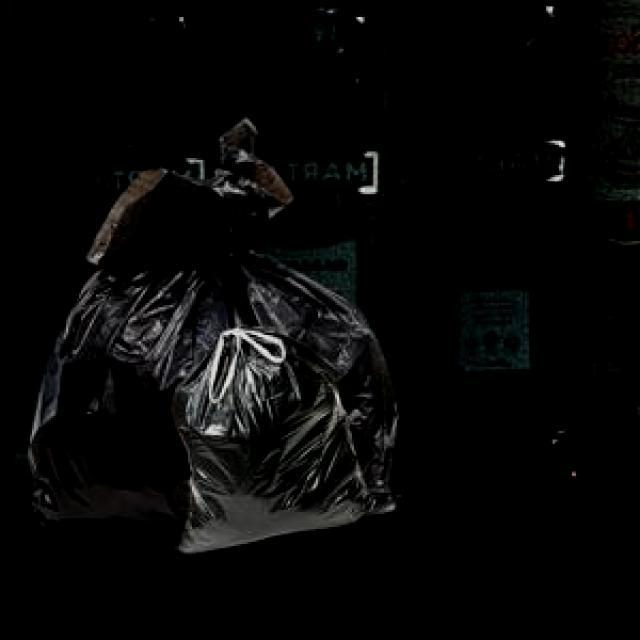Trashbag: (166, 323, 379, 563)
